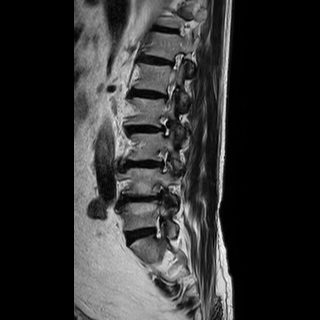RFS1: (152, 143, 174, 177), (154, 111, 177, 140)
RFS3: (150, 180, 173, 212)
